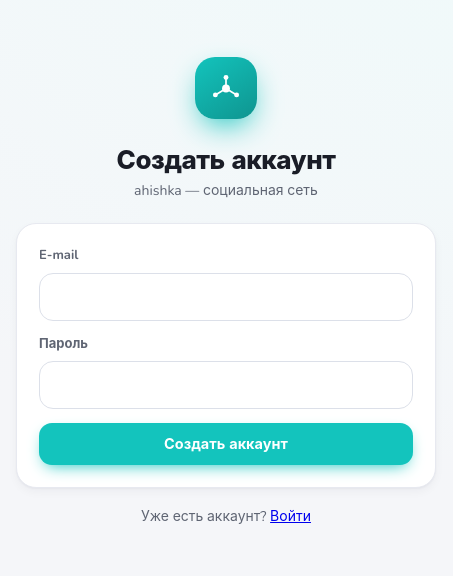
Test: занятый e-mail показывает сообщение, а не роняет форму
Check: the heading "Создать аккаунт" is shown, box [117,143,335,178]
Type "taken@example.com" into the field labelled "E-mail" at (226, 296), box [39,272,413,320]
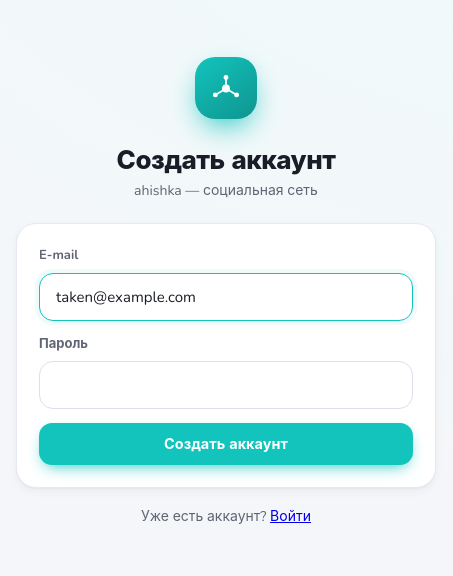
Type "password123" into the password field labelled "Пароль" at (226, 385), box [39,361,413,409]
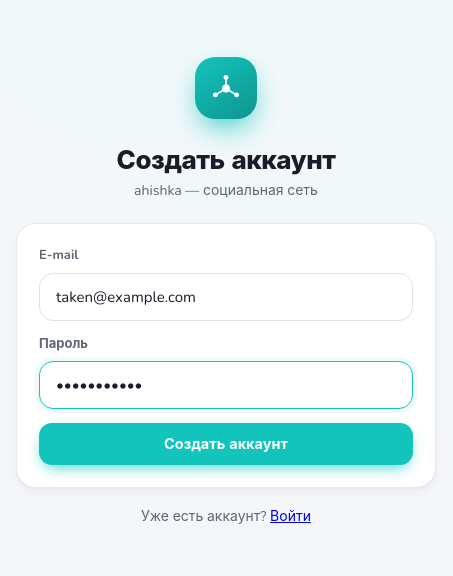
Click the button "Создать аккаунт" at (226, 444), box [39,423,413,465]
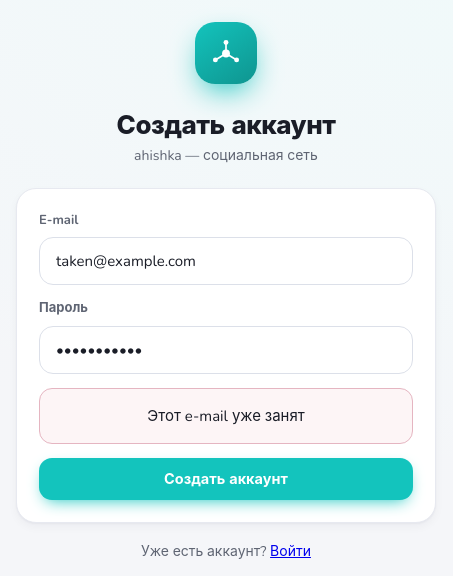
Check: the message reads "Этот e-mail уже занят", box [147,406,305,426]
